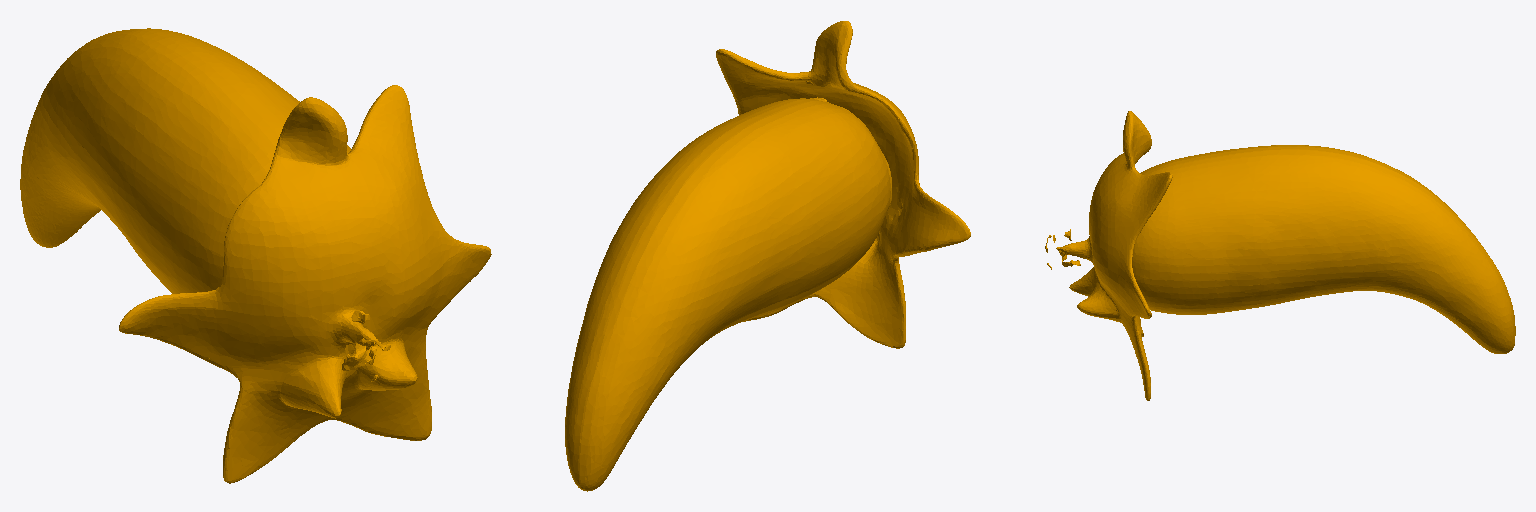
URDF robot description (sample):
<?xml version='1.0' encoding='utf-8'?>
<robot name="sample">
    <link name="sample">
        <visual>
            <origin xyz="0 0 0" rpy="1.5708 0.0 0.0" />
            <geometry>
                <mesh filename="mesh/sample.obj" scale="1.0 1.0 1.0" />
            </geometry>
        </visual>
        <collision>
            <origin xyz="0 0 0" rpy="1.5708 0.0 0.0" />
            <geometry>
                <mesh filename="mesh/sample_collision.obj" scale="1.0 1.0 1.0" />
            </geometry>
            <gazebo>
                <mu1>0.80</mu1> 
                <mu2>0.60</mu2> 
            </gazebo>
        </collision>
        <inertial>
            <mass value="1.0000" />
            <origin xyz="0 0 0" />
            <inertia ixx="1.0" ixy="0.0" ixz="0.0" iyy="1.0" iyz="0.0" izz="1.0" />
        </inertial>
        <extra_info>
            <scale>0.120000</scale>
            <version>v0.1.7</version>
            <category>toy</category>
            <description>toy</description>
            <min_height>0.06</min_height>
            <max_height>0.08</max_height>
            <real_height>0.070</real_height>
            <min_mass>0.05</min_mass>
            <max_mass>0.15</max_mass>
            <color>unknown</color>
            <rgba>[0.5, 0.5, 0.5, 1.0]</rgba>
            <generate_time>20260813163515</generate_time>
            <gs_model>""</gs_model>
        </extra_info>
    </link>
</robot>

--- Facts derived from the render (not from the file) ---
3 views of the same robot in one strip: view 1: azimuth 30°, elevation 25°; view 2: azimuth 150°, elevation 25°; view 3: azimuth 270°, elevation 25° (orthographic).
Model sample with 1 links and 0 joints (none), rooted at sample, posed all joints at 0.
Visible links, largest first — view 1: sample; view 2: sample; view 3: sample.
Boxes of the visible links, x1,y1,x2,y2 form: sample: (20, 28, 491, 483); sample: (565, 21, 970, 491); sample: (1045, 111, 1515, 400).
Size in the robot's own frame: 0.07 by 0.12 by 0.07 metres.
Meshes: 1 distinct files referenced, 1 mesh visuals loaded (1 OBJ).
